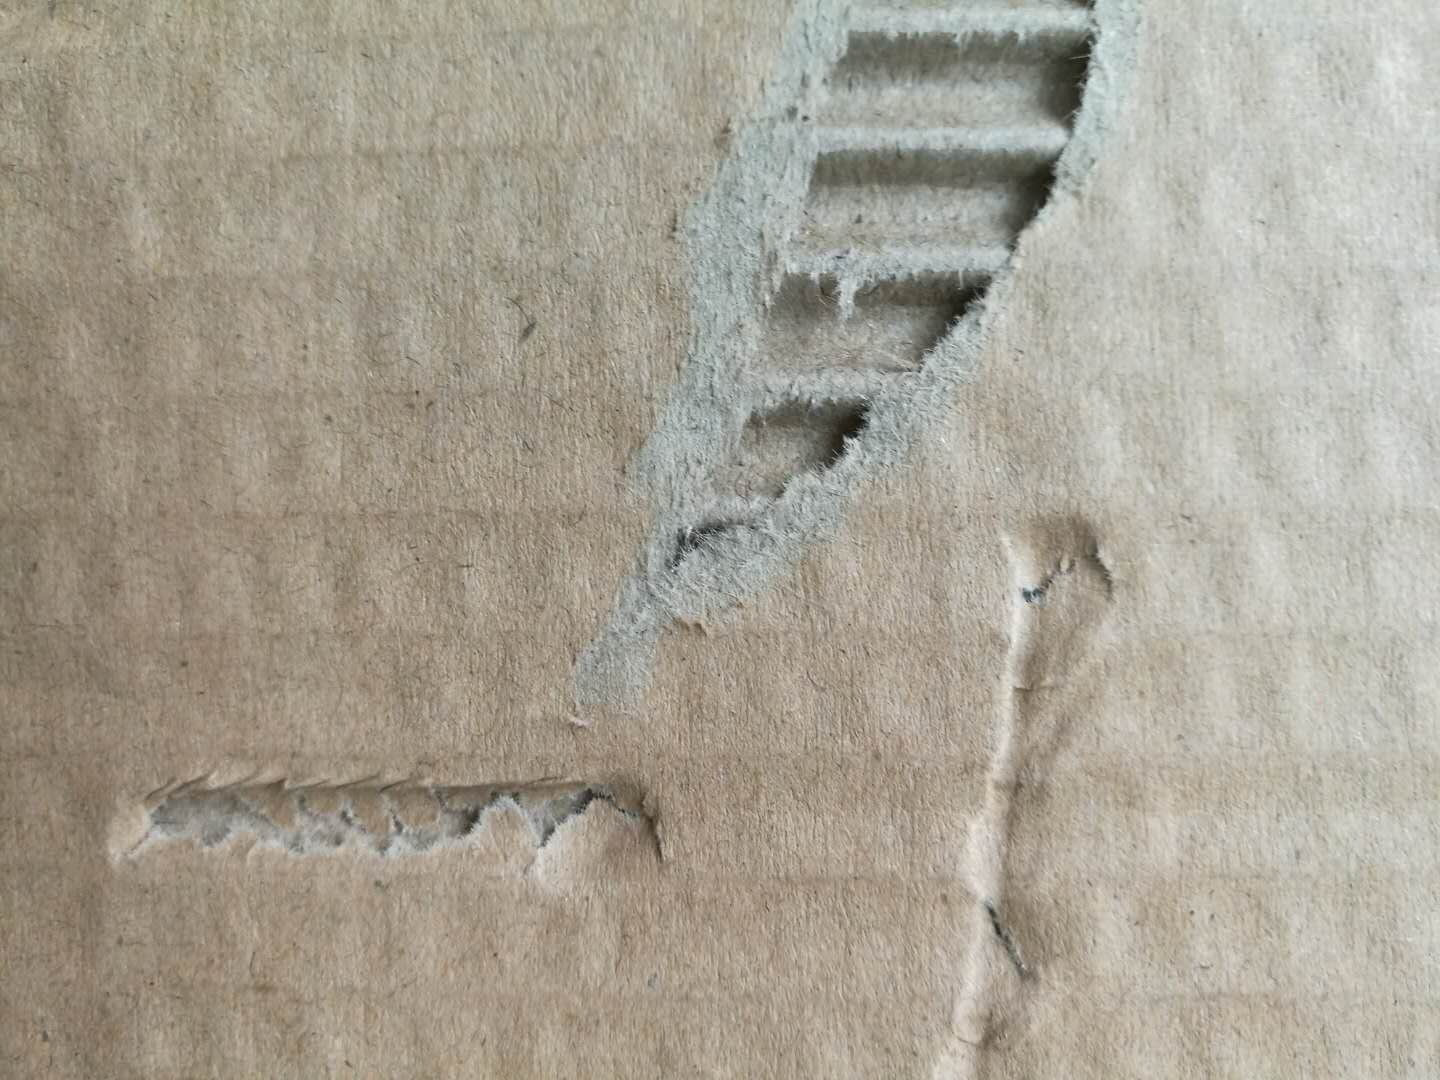defect: (533, 3, 1167, 724), (906, 492, 1181, 1080), (91, 733, 693, 940)
